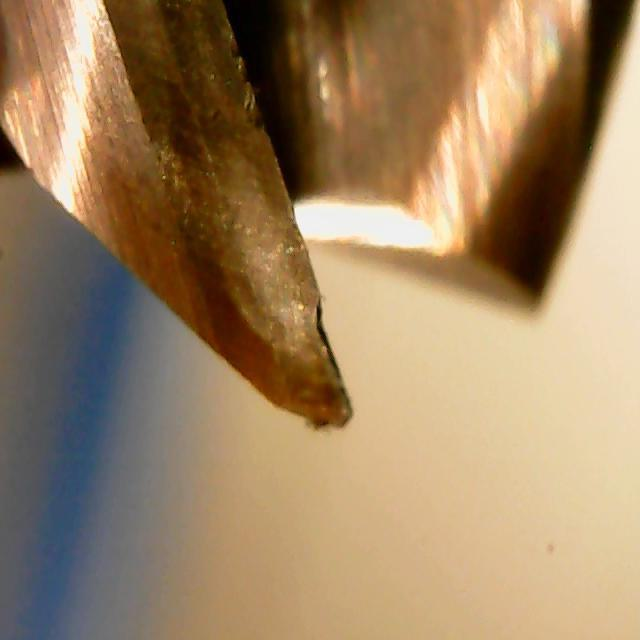Tool-wear-class-1: (189, 203, 375, 441)
